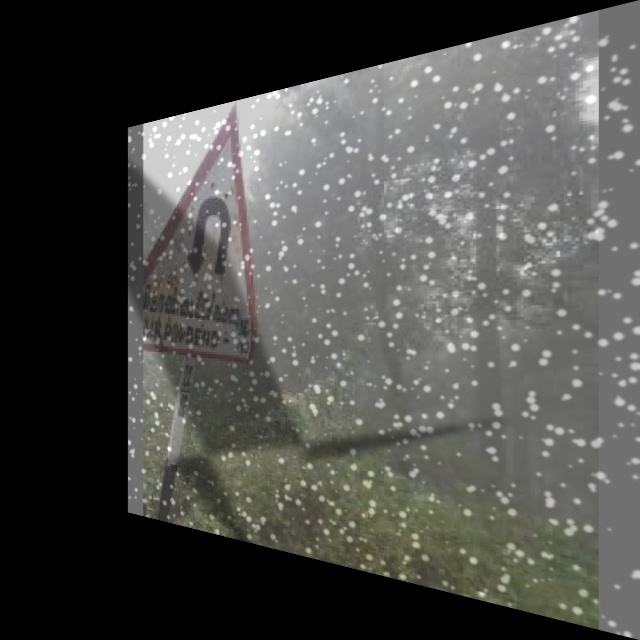Left_Hair_Pin_Bend: (170, 159, 264, 300)
